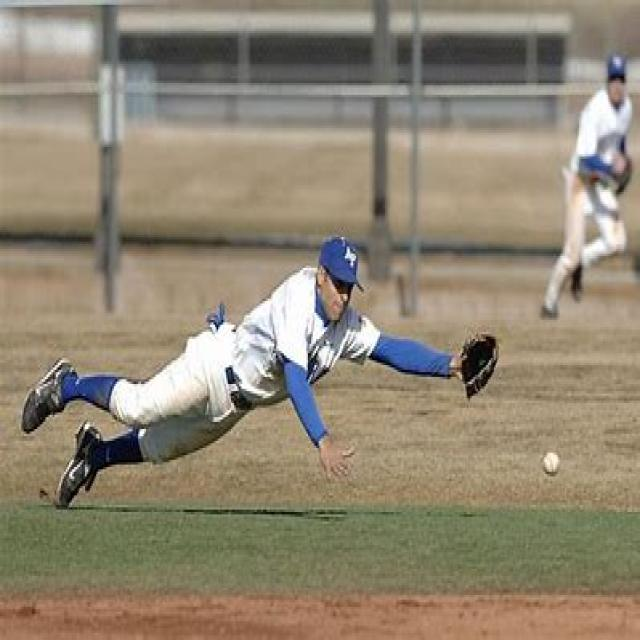ball: (543, 450, 560, 476)
glove: (457, 330, 502, 406)
